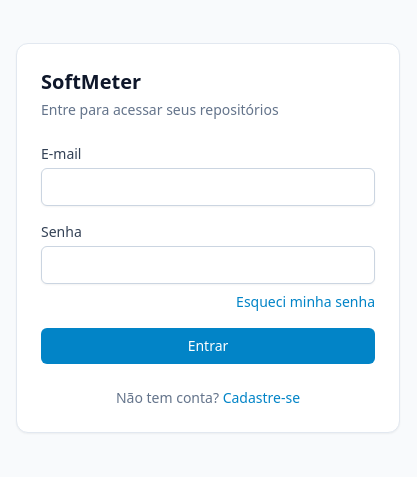
LoginPage › shows an error message when credentials are invalid
The image size is (417, 477).
Step 1. Type "dev@example.com" into the field labelled "E-mail" → (208, 187), box top-left (41, 168), bottom-right (375, 206)
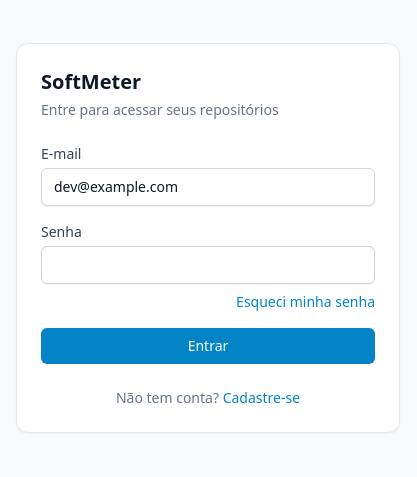
Step 2. Type "wrong-password" into the password field labelled "Senha" → (208, 265), box top-left (41, 246), bottom-right (375, 284)
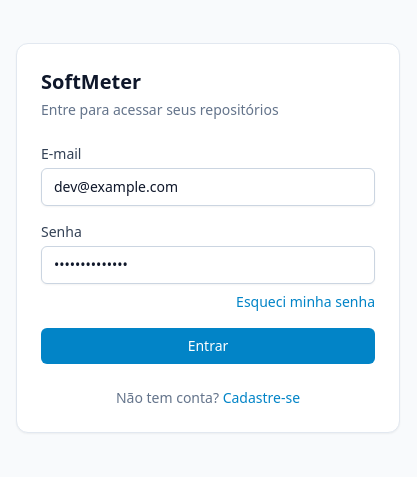
Step 3. Click the button "Entrar" → (208, 346), box top-left (41, 328), bottom-right (375, 364)
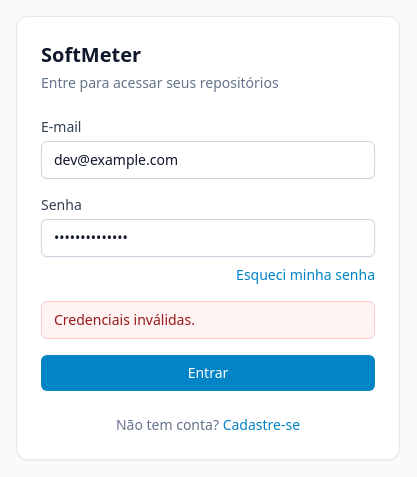
expect the message reads "Credenciais inválidas.": met, box top-left (54, 310), bottom-right (195, 329)
